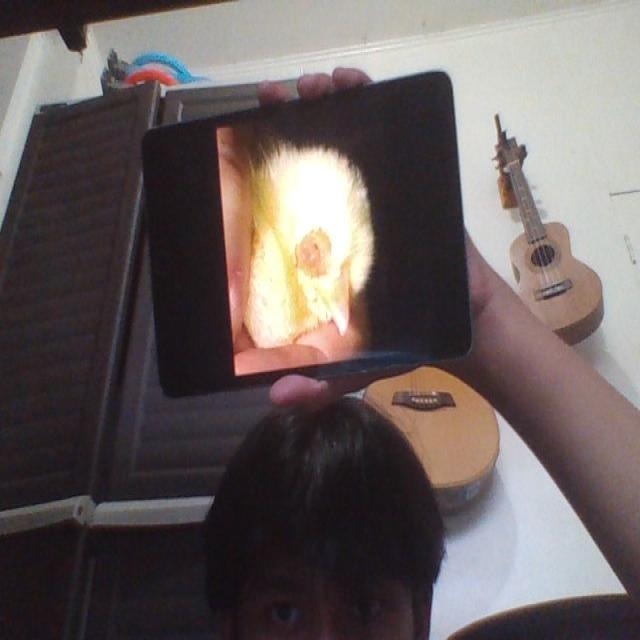Sick: (225, 136, 380, 354)
